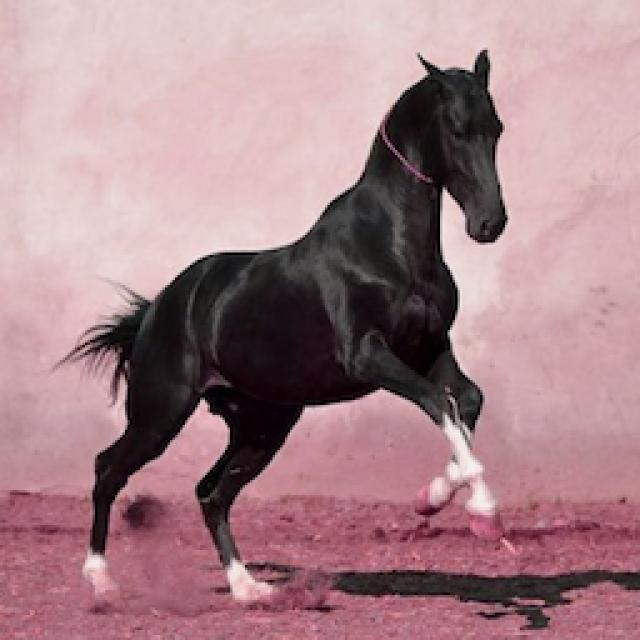Horse: (50, 42, 525, 612)
